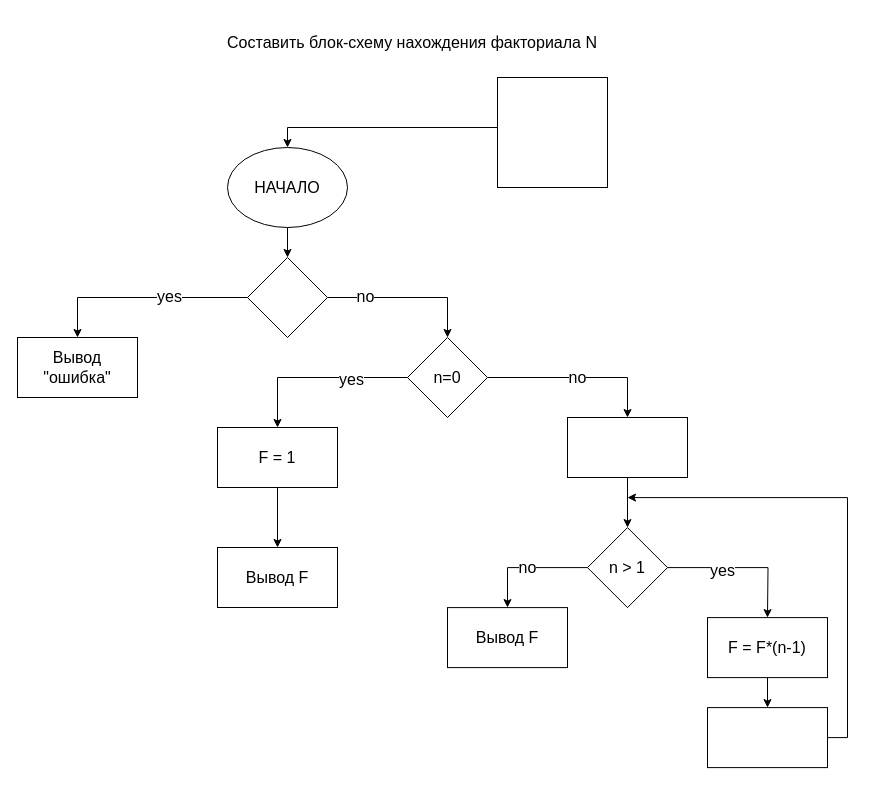
This 873x786 diagram has some shape labels left out. Each missing label, with the centre of its shape:
F=n: (627,447)
n = n-1: (767,737)
n переменная: (552,132)
n<0: (287,297)
